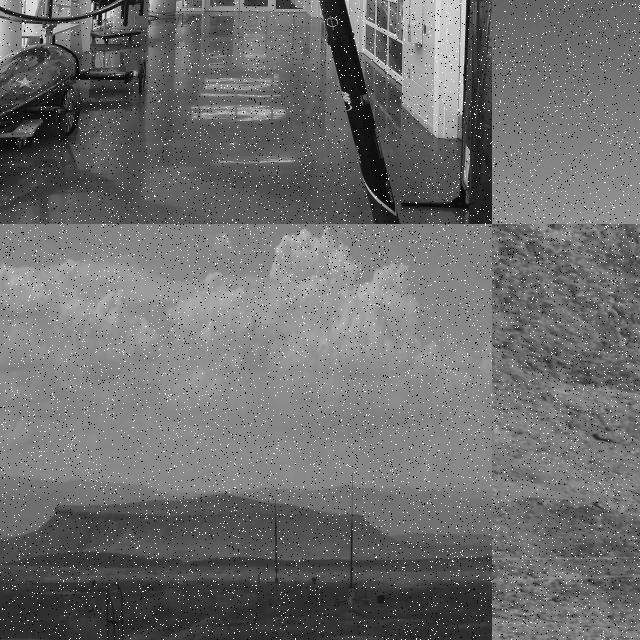Rocket: (319, 0, 402, 224), (274, 507, 279, 574)
